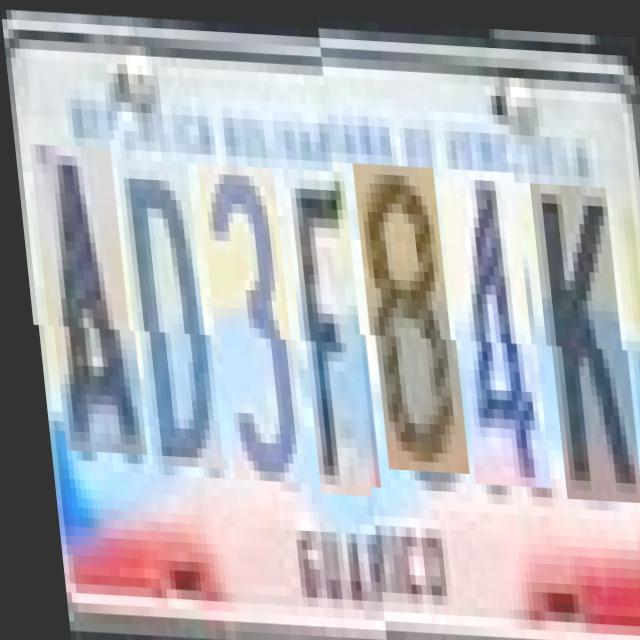3: (200, 162, 300, 480)
4: (441, 173, 542, 492)
8: (356, 169, 460, 478)
A: (32, 144, 137, 453)
D: (119, 158, 214, 466)
F: (284, 165, 372, 493)
K: (532, 187, 634, 506)
